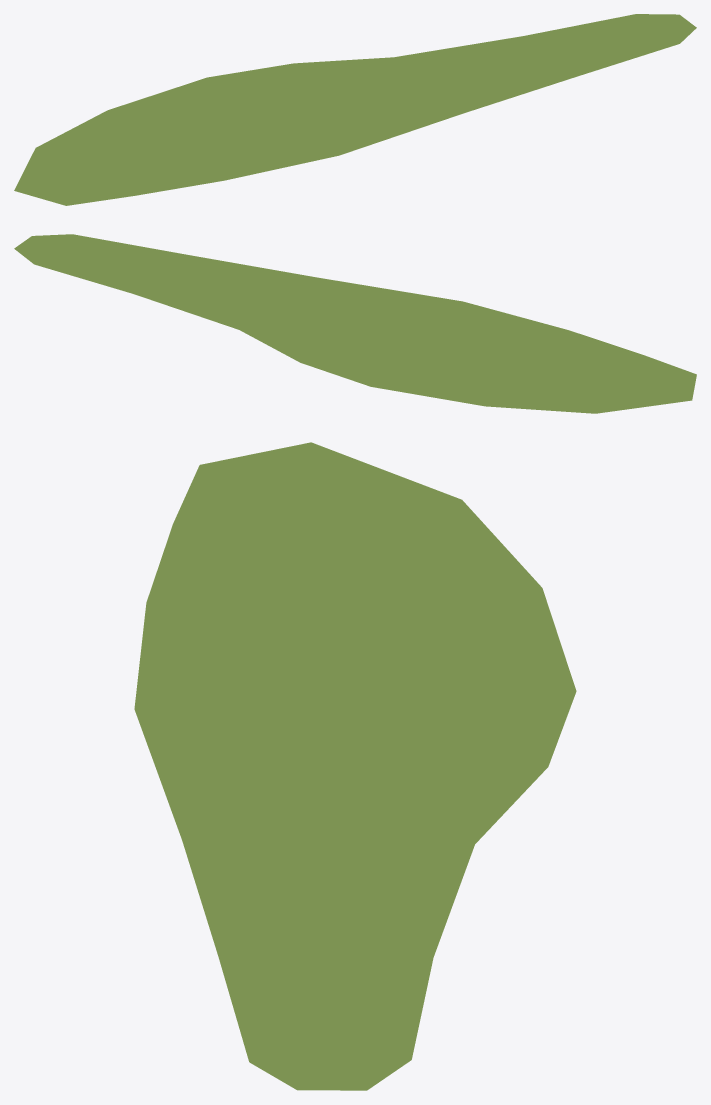
The model's file is Mesh_Battle_Forest_Ground_13.FBX.
The picture shows the model from 3 angles, top to bottom: view 1: azimuth 30°, elevation 25°; view 2: azimuth 150°, elevation 25°; view 3: azimuth 270°, elevation 25°; orthographic projection. The views are drawn at different scales.
Visible parts, largest first — view 1: Mesh_Battle_Forest_Ground_13; view 2: Mesh_Battle_Forest_Ground_13; view 3: Mesh_Battle_Forest_Ground_13.
Part boxes in pixels (bbox=[...]): Mesh_Battle_Forest_Ground_13: bbox=[14, 14, 696, 205]; Mesh_Battle_Forest_Ground_13: bbox=[14, 234, 696, 413]; Mesh_Battle_Forest_Ground_13: bbox=[134, 442, 576, 1090].
Size of the model in its own units: 108 by 9.54e-07 by 31.08.
